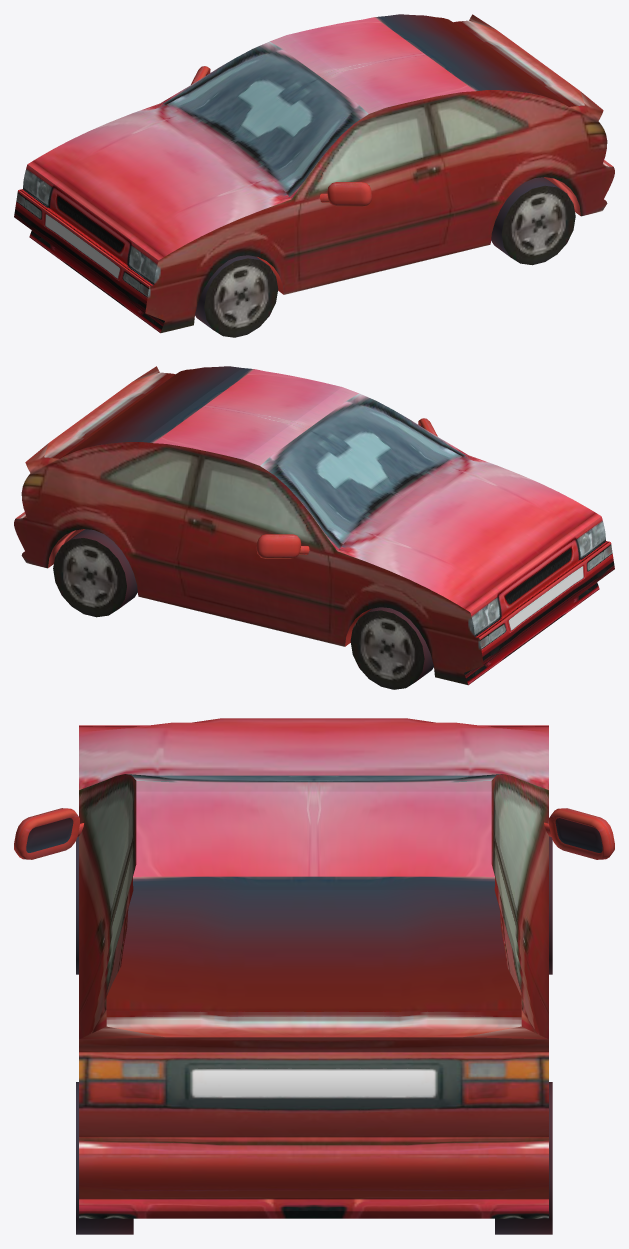
The model's file is car2.DAE.
The picture shows the model from 3 angles, top to bottom: view 1: azimuth 30°, elevation 25°; view 2: azimuth 150°, elevation 25°; view 3: azimuth 270°, elevation 25°; orthographic projection. The views are drawn at different scales.
Parts seen in each view (by area): view 1: Line02, Cylinder04, Cylinder03, ChamferBox01; view 2: Line02, Cylinder06, Cylinder01, ChamferBox02; view 3: Line02, ChamferBox01, ChamferBox02, Cylinder06, Cylinder04.
Boxes of the visible parts, box(x1,y1,x2,y2) form: Line02: box(14, 14, 614, 333); Cylinder04: box(491, 177, 575, 265); Cylinder03: box(195, 255, 278, 337); ChamferBox01: box(327, 182, 371, 206); Line02: box(14, 366, 614, 685); Cylinder06: box(53, 529, 137, 617); Cylinder01: box(350, 607, 433, 689); ChamferBox02: box(256, 534, 301, 558); Line02: box(79, 718, 548, 1218); ChamferBox01: box(14, 808, 79, 859); ChamferBox02: box(549, 808, 614, 859); Cylinder06: box(495, 1082, 552, 1234); Cylinder04: box(76, 1082, 133, 1234).
Size of what is drawn, in the model's own units: 361 by 224 by 130.
